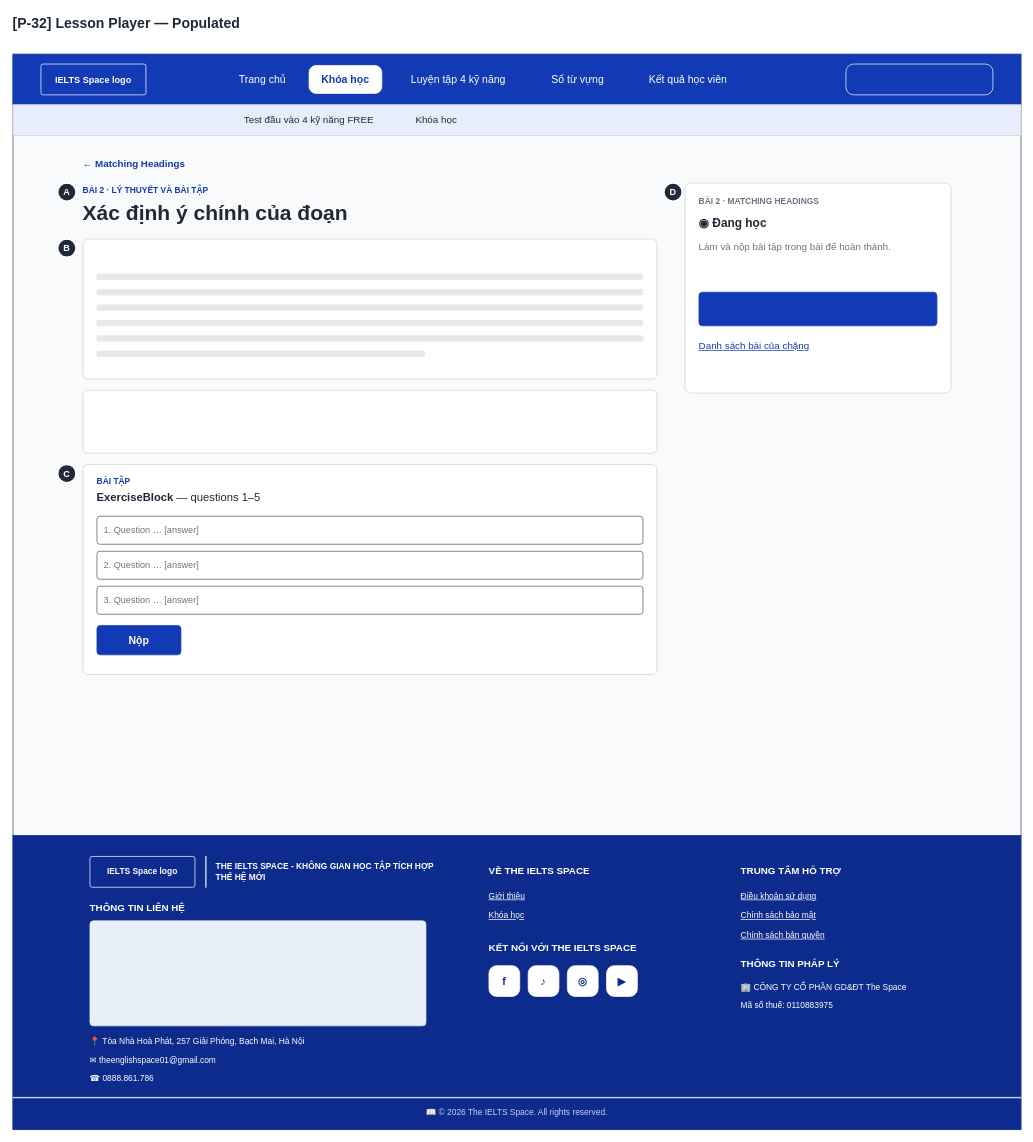
The diagram is 1033 pixels wide and 1142 high, and some of its shapes have lost their labels. The centre of each missing label's shape, as x and y in pixels:
AudioBlock ▶ ━━━●━━━ 01:20 / 03:40 · transcript · PassageBlock (đoạn A–E): point 369,421
Hoàn thành bài: point 817,309
TextBlock — theory: point 369,308
◯ Học viên · 30 Points ▾: point 919,79
📍 The IELTS Space Mở trong Maps ↗: point 257,973
